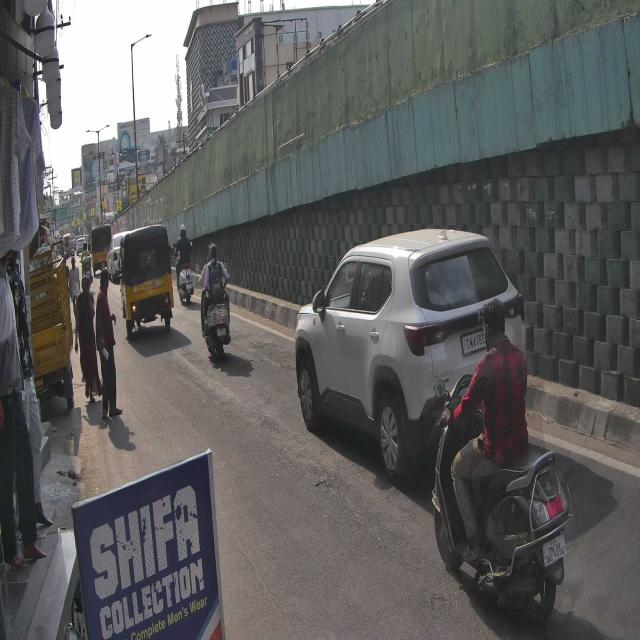single_rider: (428, 293, 576, 636)
